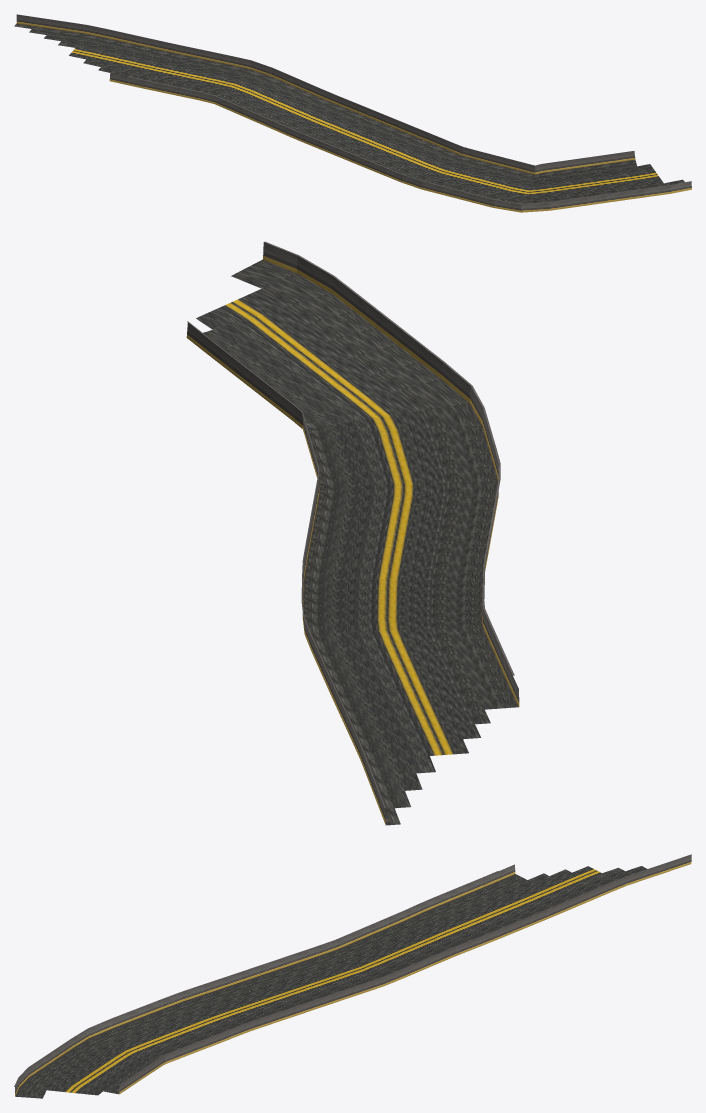
File: road_block_03.obj
The picture shows the model from 3 angles, top to bottom: view 1: azimuth 30°, elevation 25°; view 2: azimuth 150°, elevation 25°; view 3: azimuth 270°, elevation 25°; orthographic projection. The views are drawn at different scales.
Visible parts, largest first — view 1: Road_display.003_Cube.007; view 2: Road_display.003_Cube.007; view 3: Road_display.003_Cube.007.
Part boxes in pixels (x1,y1,x2,y2): Road_display.003_Cube.007: [14, 14, 691, 212]; Road_display.003_Cube.007: [186, 241, 519, 825]; Road_display.003_Cube.007: [14, 854, 691, 1098].
Bounding box in the file's own units: 70.84 × 9.83 × 100.
1 material, 1 textured.
